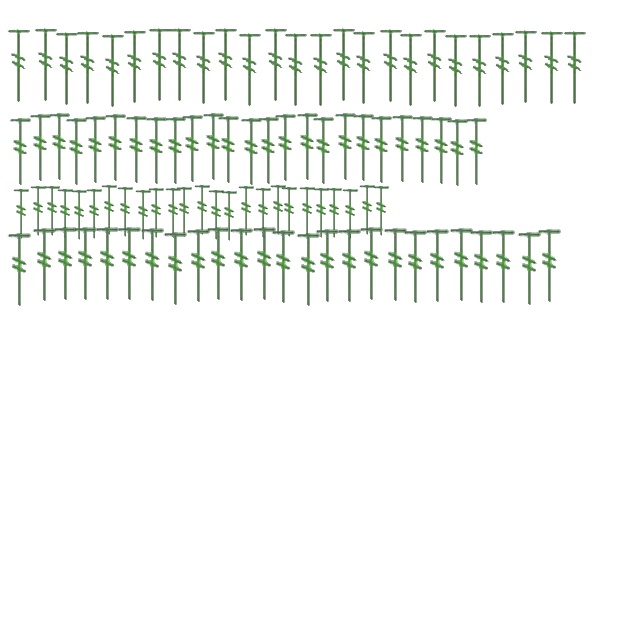fan: (5, 26, 33, 106), (32, 25, 60, 105), (53, 29, 81, 109), (74, 28, 102, 108), (99, 31, 127, 111), (121, 27, 149, 107), (146, 25, 174, 105), (166, 25, 194, 105), (190, 28, 218, 108), (212, 25, 240, 105), (236, 30, 264, 110), (262, 25, 290, 105), (282, 30, 310, 110), (307, 30, 335, 110), (330, 25, 358, 105), (350, 28, 378, 108), (377, 26, 405, 106), (397, 30, 425, 110), (421, 26, 449, 106), (442, 31, 470, 111), (466, 31, 494, 111), (489, 29, 517, 109), (512, 27, 540, 107), (538, 28, 566, 108), (561, 28, 589, 108), (6, 232, 32, 308), (31, 227, 57, 303), (52, 226, 78, 302), (72, 226, 98, 302), (94, 226, 120, 302), (116, 226, 142, 302), (139, 227, 165, 303), (162, 231, 188, 307), (185, 228, 211, 304), (205, 226, 231, 302), (228, 227, 254, 303), (251, 226, 277, 302), (270, 229, 296, 305), (295, 232, 321, 308), (314, 228, 340, 304), (336, 228, 362, 304), (358, 226, 384, 302), (382, 227, 408, 303), (402, 229, 428, 305), (424, 228, 450, 304), (448, 227, 474, 303), (468, 229, 494, 305), (490, 229, 516, 305), (516, 231, 542, 307), (536, 228, 562, 304), (8, 117, 32, 187), (28, 113, 52, 183), (47, 112, 71, 182), (64, 117, 88, 187), (83, 115, 107, 185), (103, 113, 127, 183), (124, 115, 148, 185), (144, 116, 168, 186), (163, 116, 187, 186), (180, 114, 204, 184), (201, 112, 225, 182), (216, 115, 240, 185), (239, 117, 263, 187), (256, 116, 280, 186), (273, 113, 297, 183), (295, 112, 319, 182), (311, 116, 335, 186), (333, 112, 357, 182), (351, 113, 375, 183), (369, 115, 393, 185), (390, 114, 414, 184), (410, 115, 434, 185), (429, 116, 453, 186), (445, 118, 469, 188), (464, 117, 488, 187), (12, 188, 30, 240), (29, 185, 47, 237), (43, 185, 61, 237), (56, 188, 74, 240), (70, 189, 88, 241), (85, 188, 103, 240), (100, 184, 118, 236), (116, 186, 134, 238), (134, 189, 152, 241), (147, 187, 165, 239), (164, 187, 182, 239), (175, 186, 193, 238), (193, 184, 211, 236), (207, 189, 225, 241), (220, 190, 238, 242), (237, 185, 255, 237), (254, 187, 272, 239), (269, 184, 287, 236), (280, 186, 298, 238), (298, 186, 316, 238), (312, 187, 330, 239), (325, 187, 343, 239), (341, 188, 359, 240), (358, 184, 376, 236), (372, 185, 390, 237)
